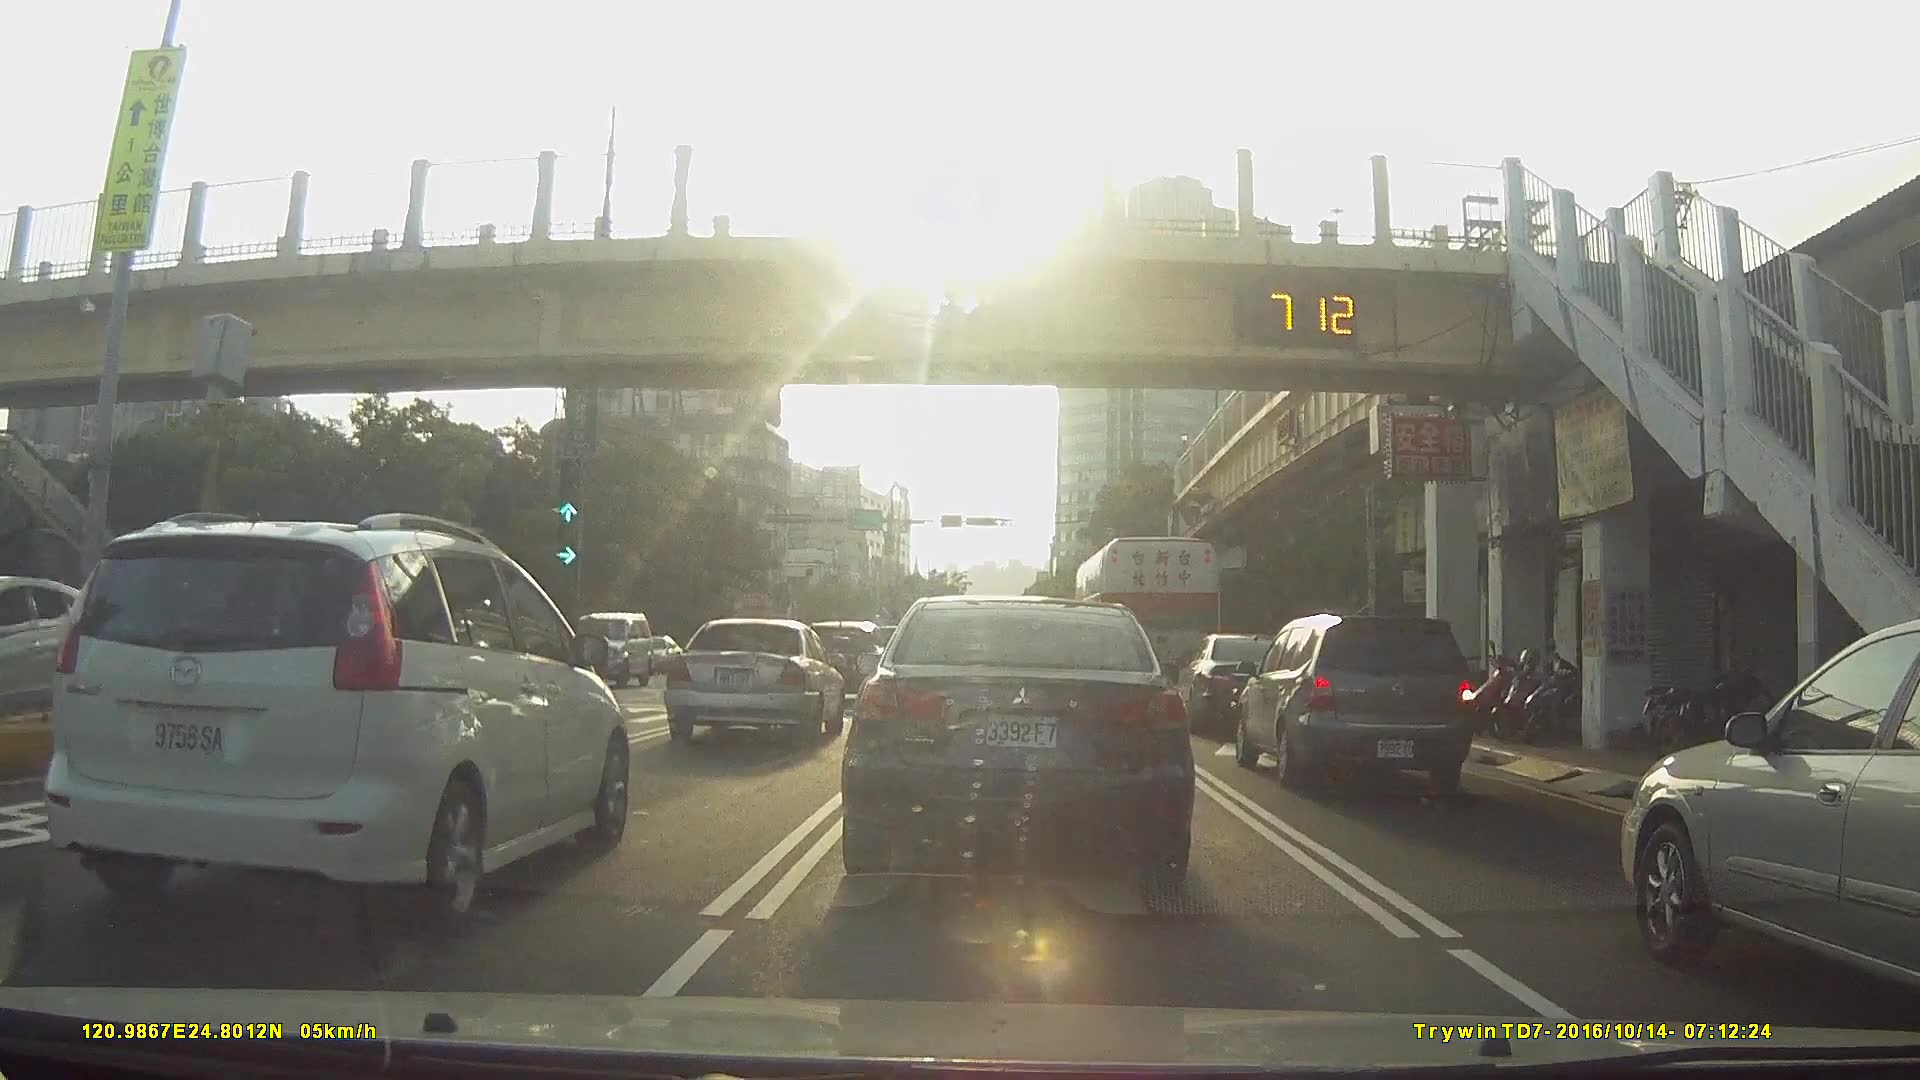vehicle: (40, 509, 630, 924), (1610, 616, 1920, 1019), (840, 589, 1191, 909), (1228, 608, 1472, 794), (1072, 534, 1218, 699), (661, 616, 843, 746), (1168, 629, 1295, 732), (554, 605, 659, 684), (787, 612, 877, 692), (632, 632, 688, 676)
